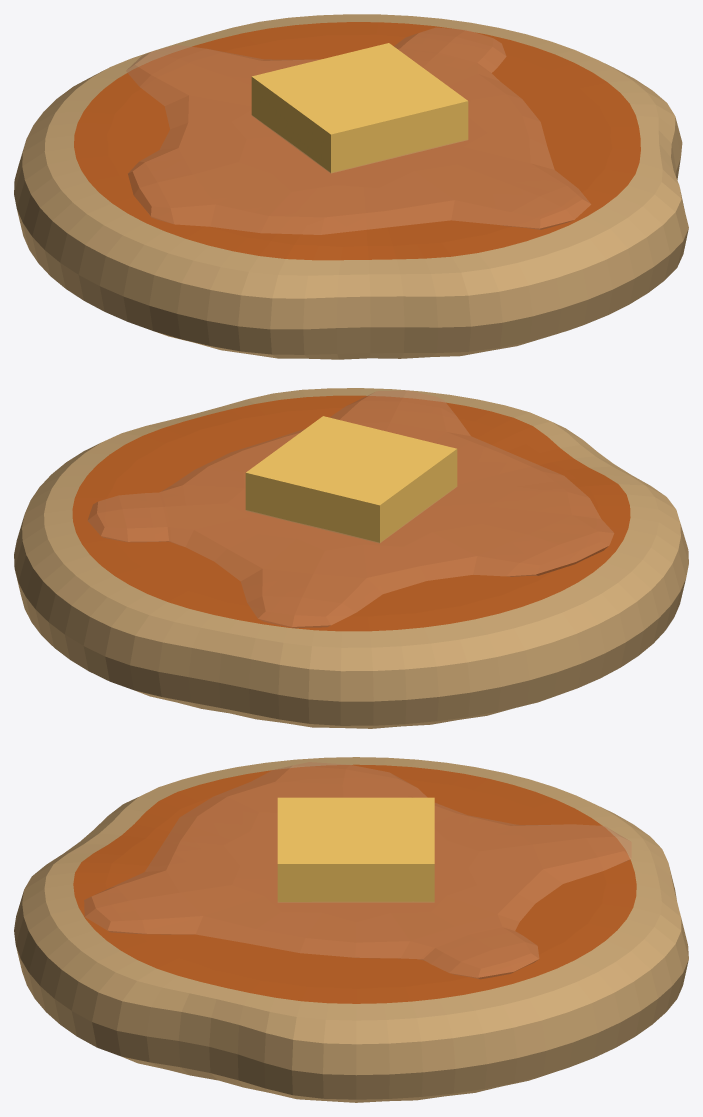
The model's file is cake2.gltf.
The picture shows the model from 3 angles, top to bottom: view 1: azimuth 30°, elevation 25°; view 2: azimuth 150°, elevation 25°; view 3: azimuth 270°, elevation 25°; orthographic projection. The views are drawn at different scales.
Visible parts, largest first — view 1: Cylinder, Circle, Cube; view 2: Cylinder, Circle, Cube; view 3: Cylinder, Circle, Cube.
Part boxes in pixels (box(x1,y1,x2,y2)): Cylinder: box(14, 14, 688, 359); Circle: box(126, 27, 590, 234); Cube: box(251, 43, 468, 173); Cylinder: box(14, 388, 688, 728); Circle: box(87, 390, 613, 628); Cube: box(245, 416, 457, 543); Cylinder: box(14, 757, 688, 1102); Circle: box(84, 762, 631, 979); Cube: box(277, 797, 434, 902).
Bounding box in the file's own units: 1.97 × 0.4641 × 1.95.
